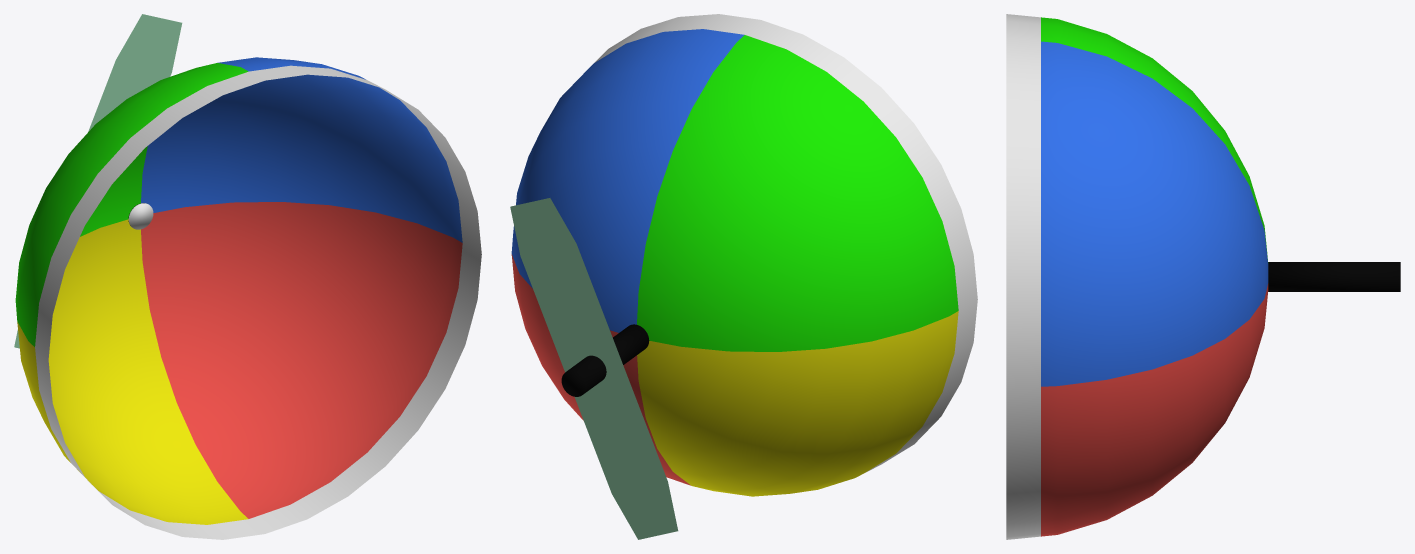
File: PropellerHat.fbx
The picture shows the model from 3 angles, left to right: view 1: azimuth 30°, elevation 25°; view 2: azimuth 150°, elevation 25°; view 3: azimuth 270°, elevation 25°; orthographic projection. The views are drawn at different scales.
Visible parts, largest first — view 1: Plane.002; view 2: Plane.002; view 3: Plane.002.
Part boxes in pixels (x1,y1,x2,y2): Plane.002: (14, 14, 481, 539); Plane.002: (510, 14, 977, 539); Plane.002: (1006, 14, 1400, 539).
Size of the model in its own units: 80 by 80 by 59.9.
